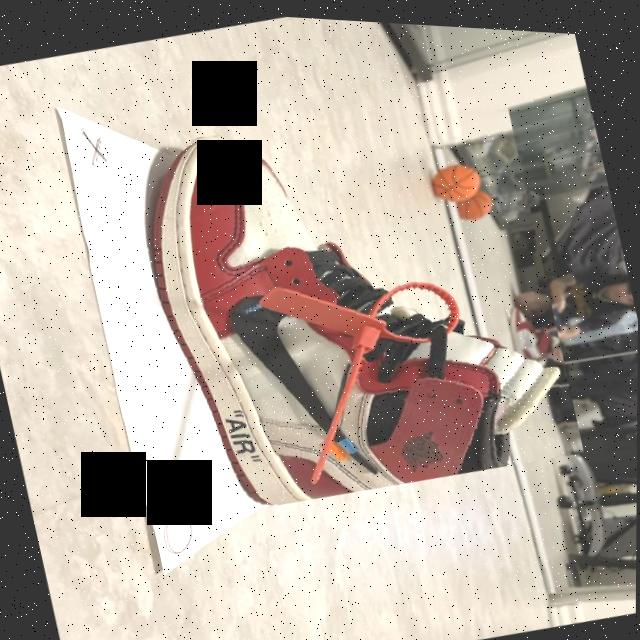shoe: (119, 57, 587, 533)
